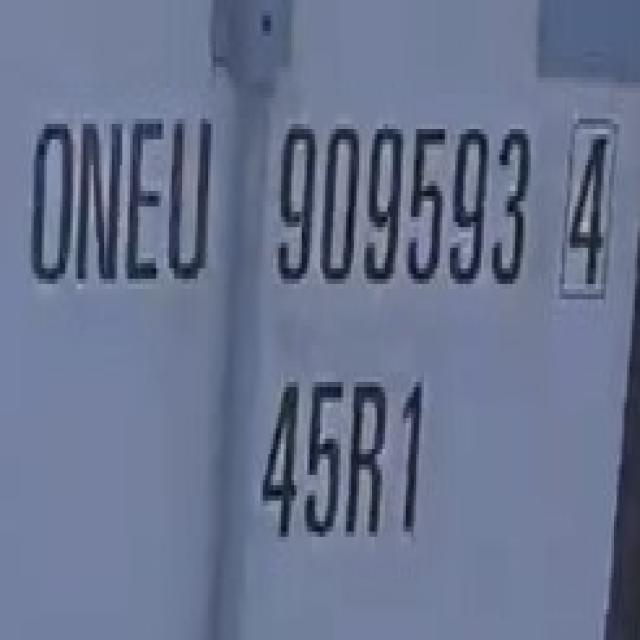dv: (544, 111, 624, 318)
owner: (22, 93, 222, 318)
serial: (262, 100, 535, 325)
size: (248, 358, 436, 560)
